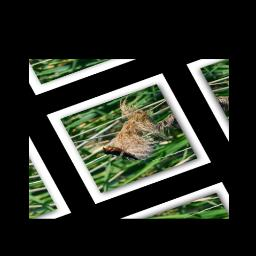Swallow: (99, 136, 143, 173)
